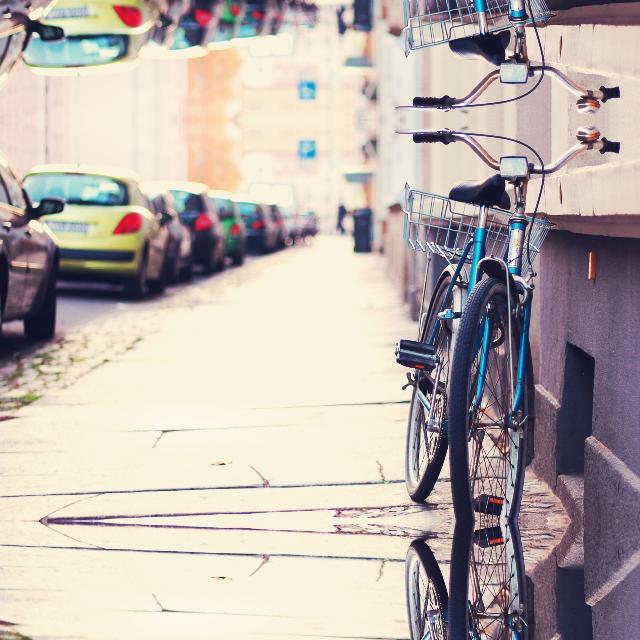obstacle: (390, 124, 630, 516), (390, 523, 630, 640), (390, 0, 630, 114)
